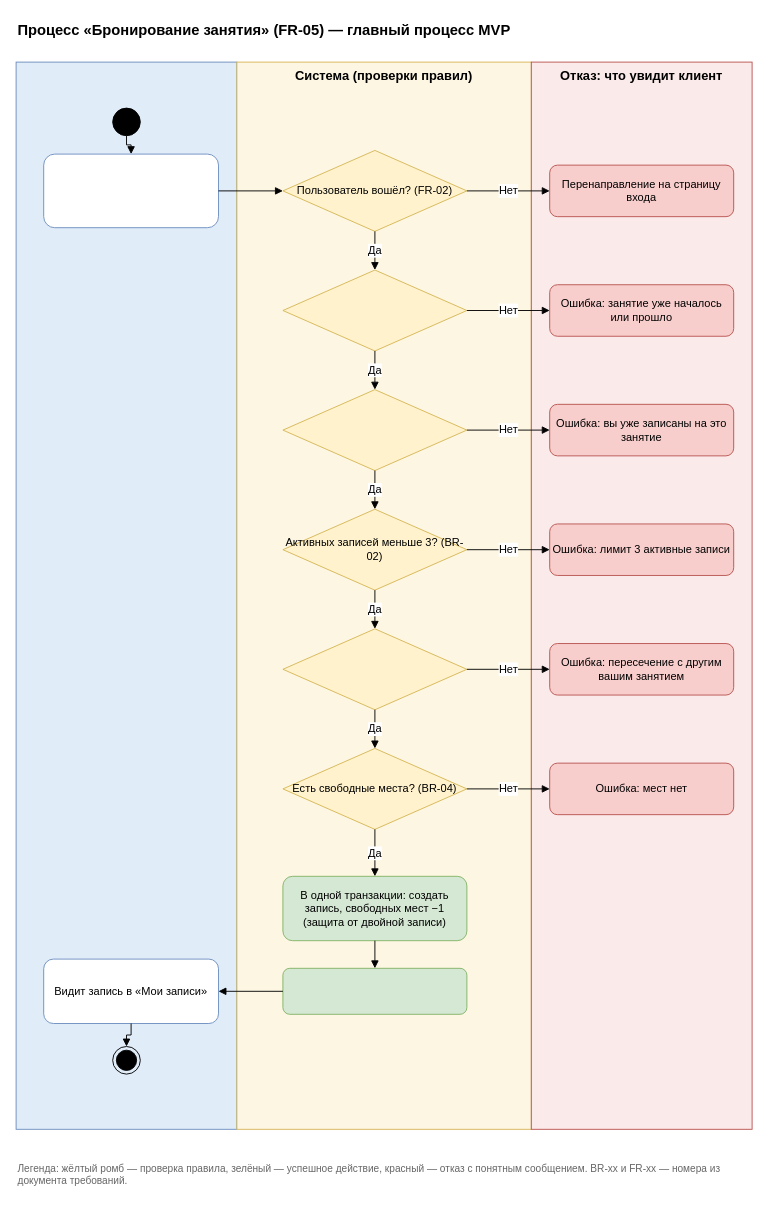
This 768x1209 diagram has some shape labels left out. Each missing label, with the box of its shape:
Занятие ещё не началось? (BR-05): (282, 269, 467, 351)
Клиент: (15, 61, 237, 1129)
Клиент ещё не записан на него? (BR-06): (282, 389, 467, 471)
Нет пересечения по времени? (BR-03): (282, 628, 467, 710)
Открывает расписание и нажимает «Записаться» на занятии: (43, 153, 218, 228)
Показать подтверждение: (282, 967, 467, 1014)
